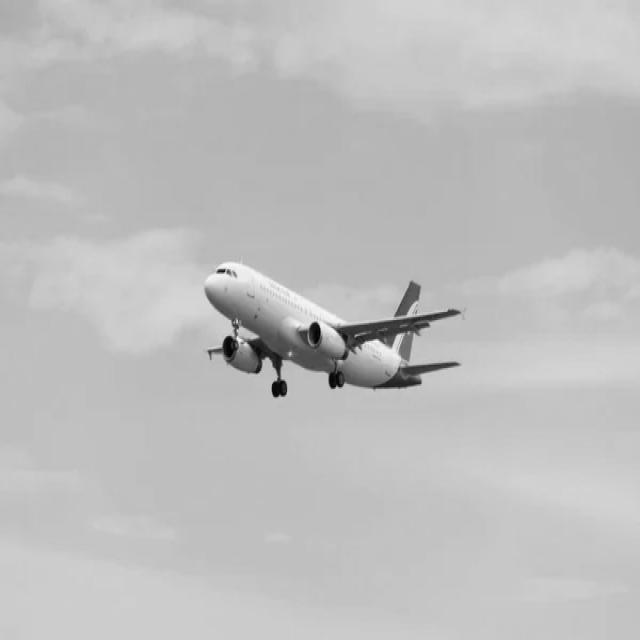Aircraft: (194, 240, 470, 418)
